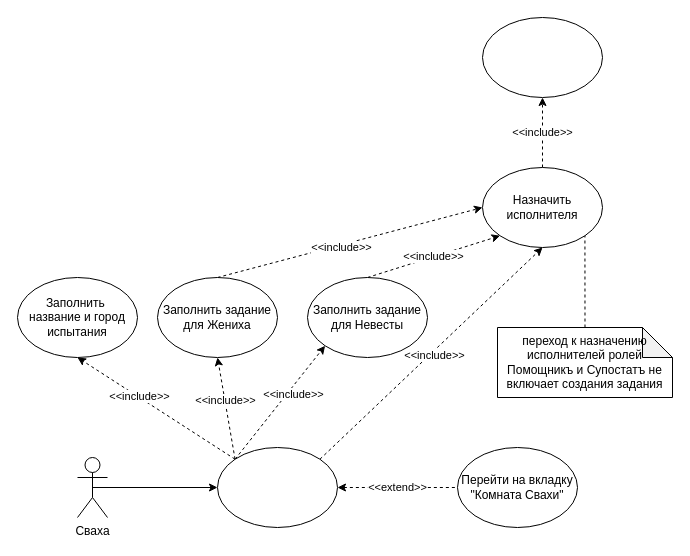
Image size: 690x556. Some labels were removed from this diagram. The centre of each missing label's shape, as x and y in pixels:
Показать список пользователей: point 542,57
Создать испытание: point 277,487
